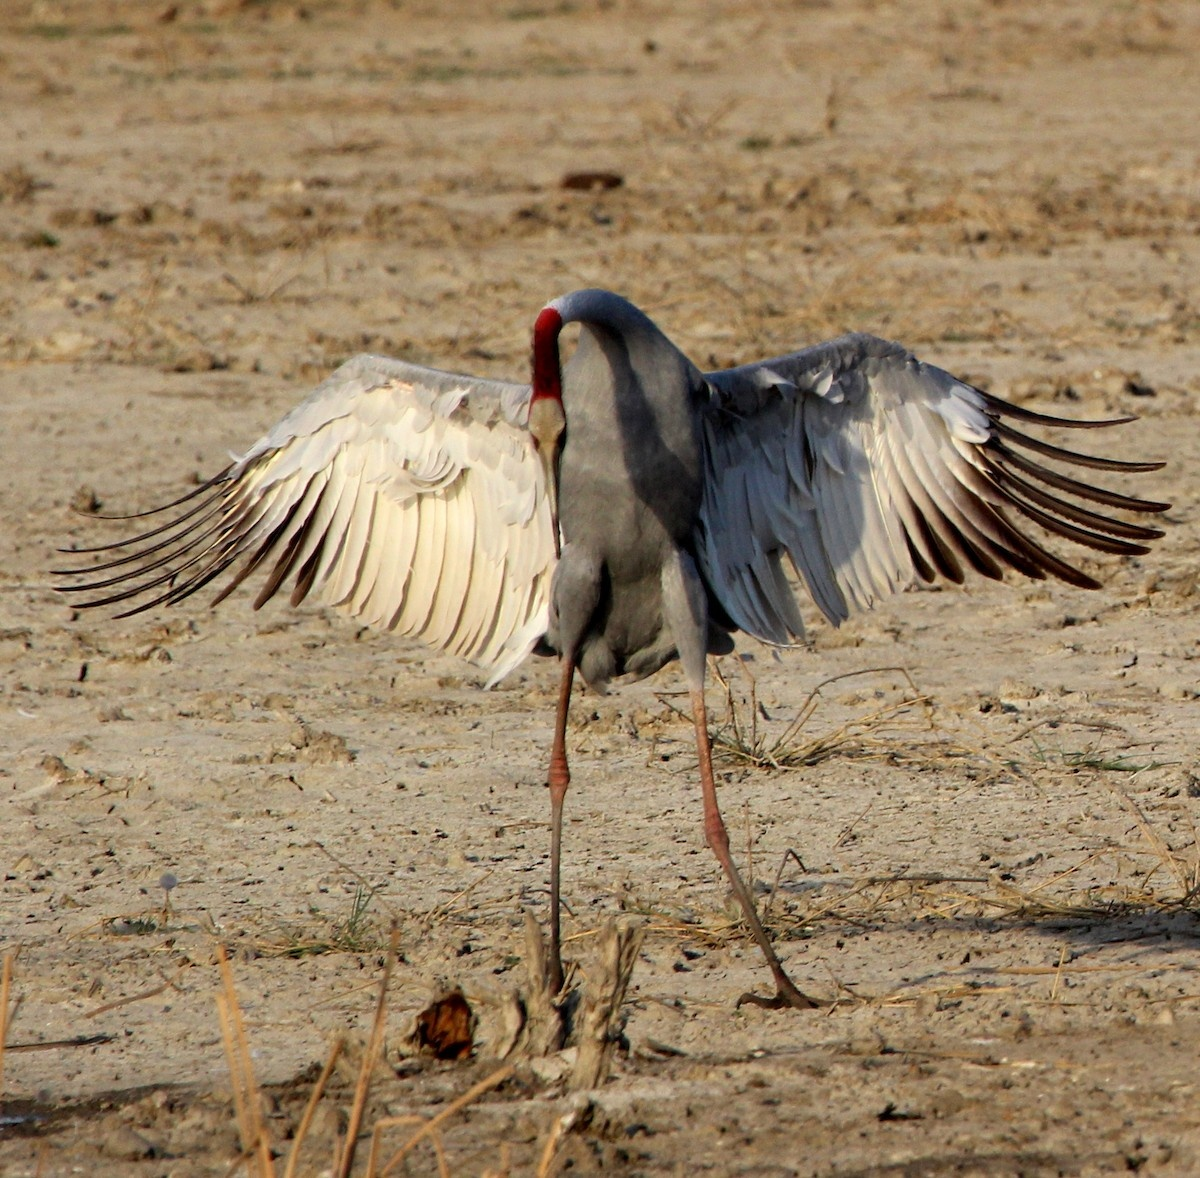crane: (76, 278, 1192, 1006)
